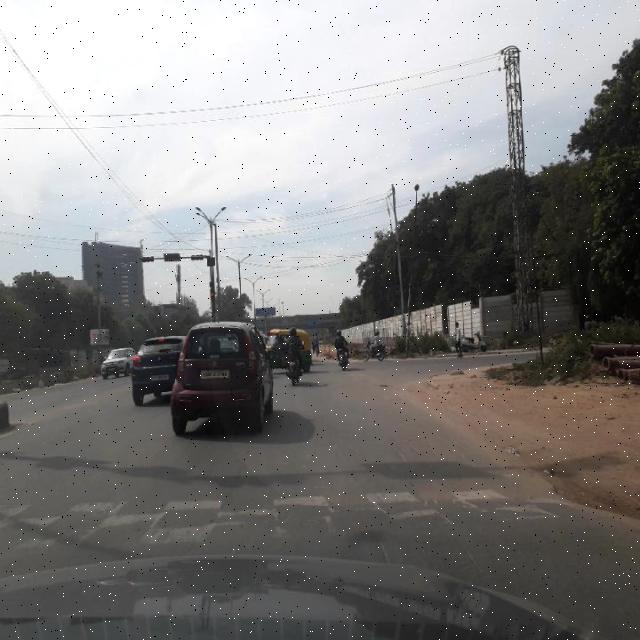D43: (1, 444, 594, 551)
